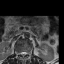CCS_normal: (22, 50, 24, 59)
LFS_normal: (26, 50, 29, 57)
LLS_normal: (24, 49, 26, 57)
RFS_normal: (17, 50, 20, 56)
RLS_normal: (20, 50, 22, 57)
